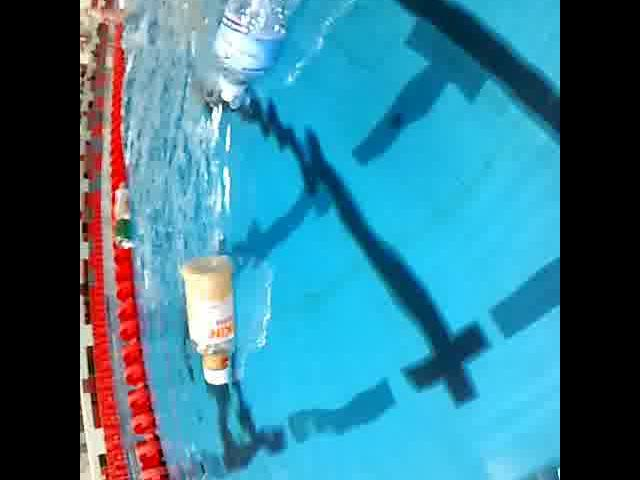Bottle: (204, 0, 349, 106), (178, 248, 244, 390), (110, 180, 136, 221)
Can: (112, 216, 136, 252)
